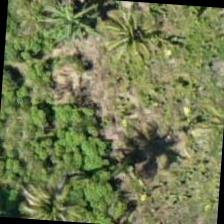Kelapa_Sawit: (33, 0, 128, 66), (0, 164, 81, 222)
